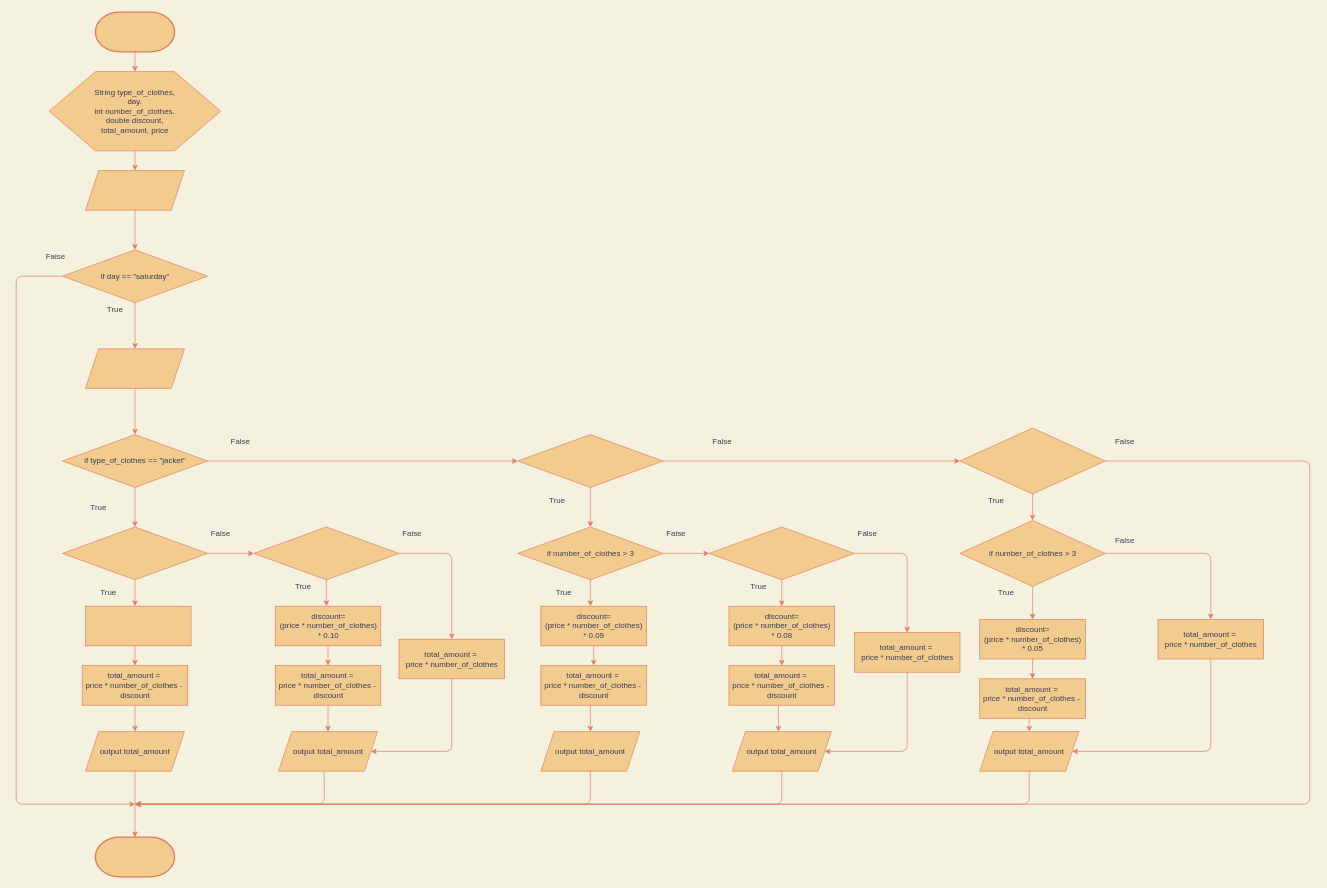
This 1327x888 diagram has some shape labels left out. Here are the shapes that lost their labels. From the top down, the box of each, then its label:
(94, 11, 175, 52): Start
(85, 170, 184, 210): input day
(85, 348, 184, 388): input type_of_clothes, number_of_clothes
(517, 434, 663, 487): else if type_of_clothes == "shirts"
(959, 427, 1105, 494): else if type_of_clothes != "jacket and shirts"
(62, 526, 208, 580): if number_of_clothes > 2
(253, 526, 399, 580): else if number_of_clothes < 2
(709, 526, 854, 580): else if number_of_clothes <= 3
(85, 606, 191, 646): discount= (price * number_of_clothes) * 0.12
(94, 836, 175, 877): end
